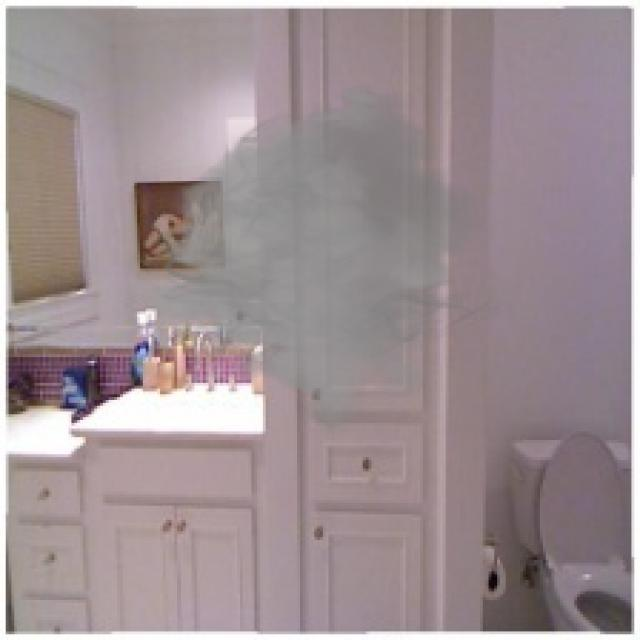Smoke: (128, 82, 514, 434)
